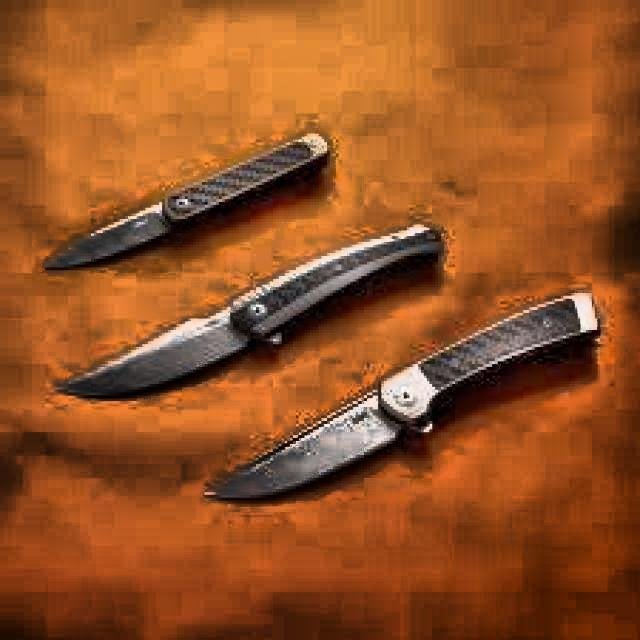knife: (201, 290, 609, 509), (62, 222, 446, 403), (35, 130, 338, 276)
